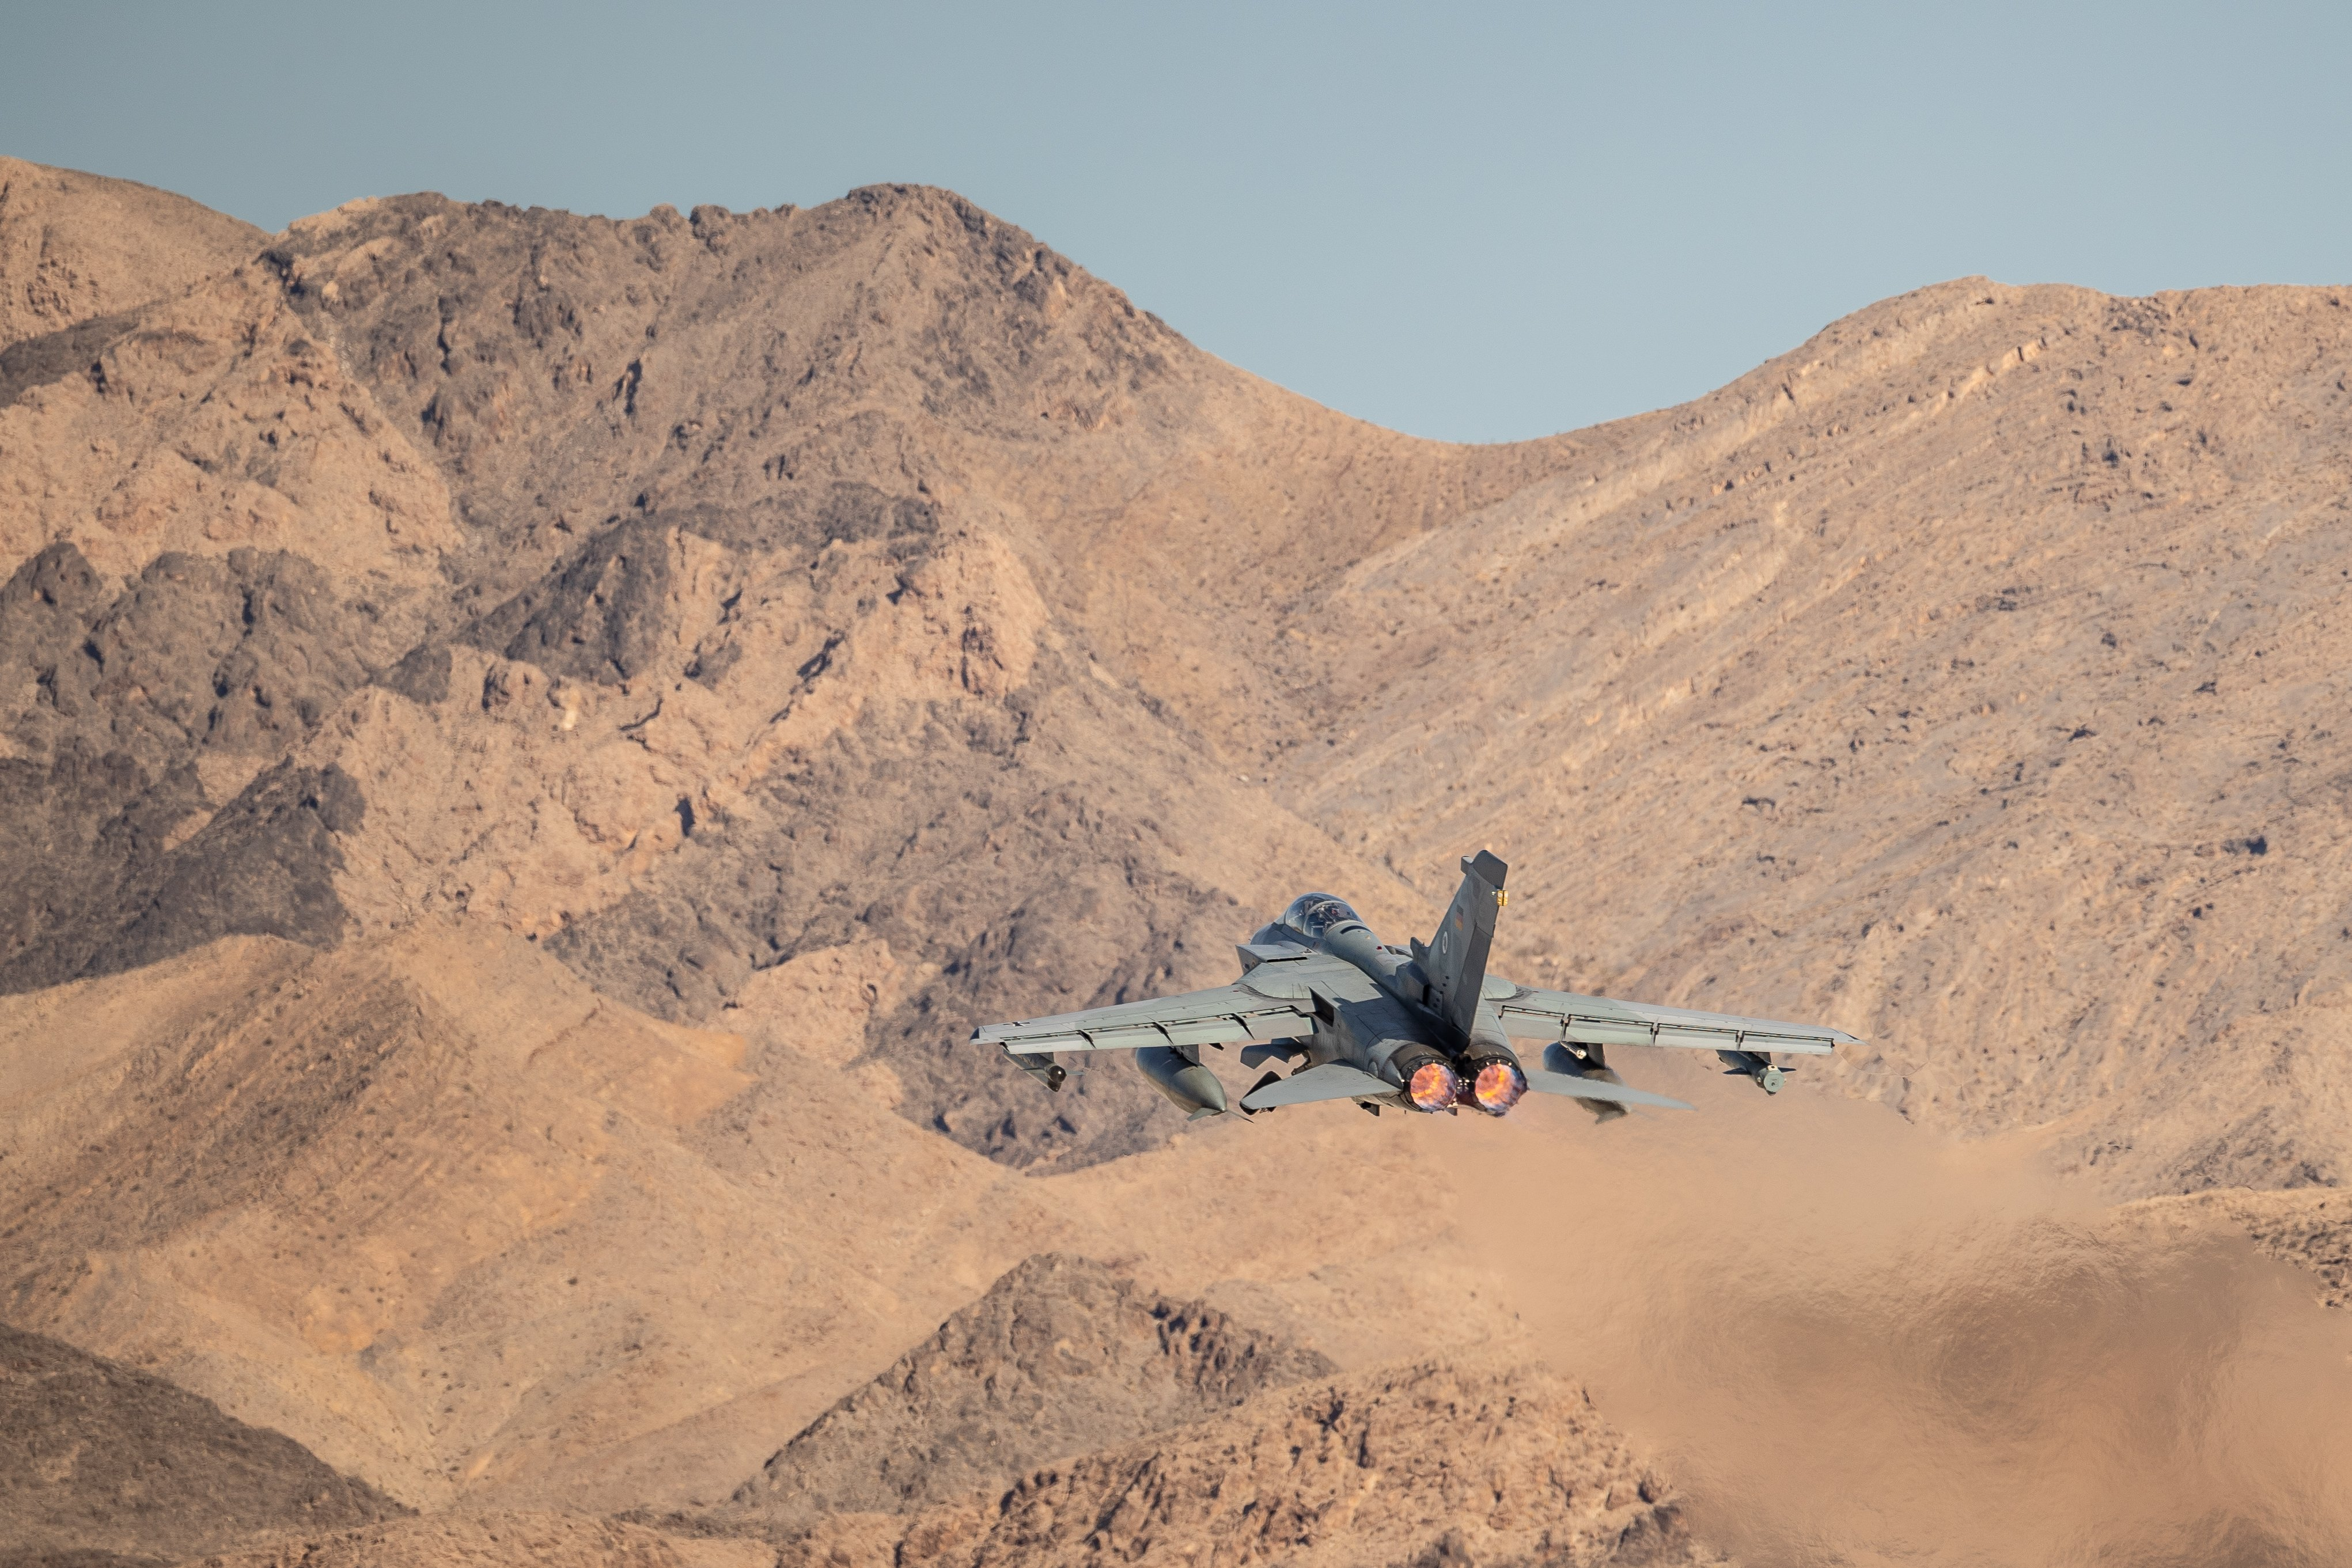Tornado: (968, 850, 1871, 1125)
